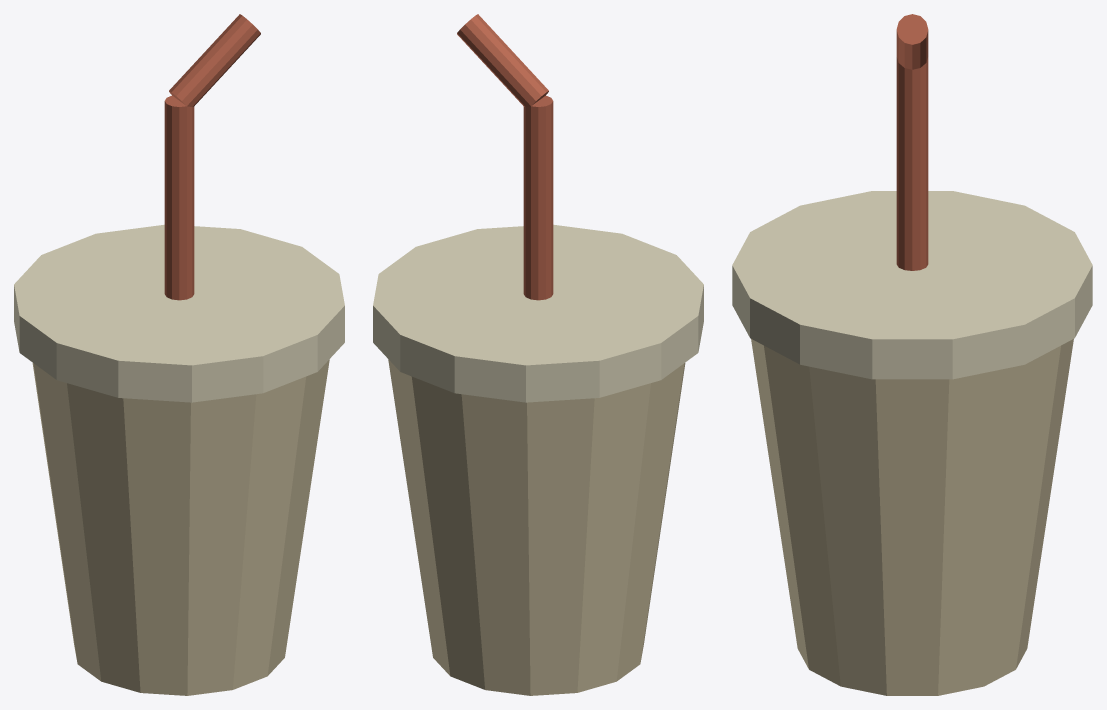
Rendered from Cup_Takeaway.glb.
3 renders of one model, left to right at view 1: azimuth 30°, elevation 25°; view 2: azimuth 150°, elevation 25°; view 3: azimuth 270°, elevation 25°, orthographic. The views are drawn at different scales.
Parts seen in each view (by area): view 1: Litter; view 2: Litter; view 3: Litter.
Part boxes in pixels (x1,y1,x2,y2): Litter: (14,14,344,695); Litter: (373,14,703,695); Litter: (732,14,1092,695).
Bounding box in the file's own units: 0.1989 × 0.417 × 0.204.
